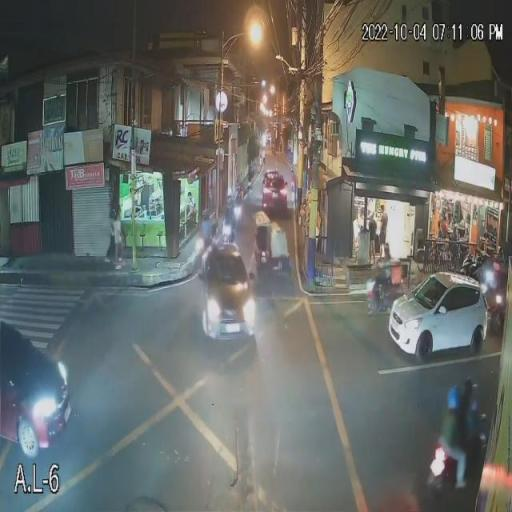helmet: (456, 377, 482, 408), (435, 384, 464, 411)
motorcycle: (417, 411, 494, 511)
rider: (432, 402, 475, 492), (464, 401, 482, 479)
